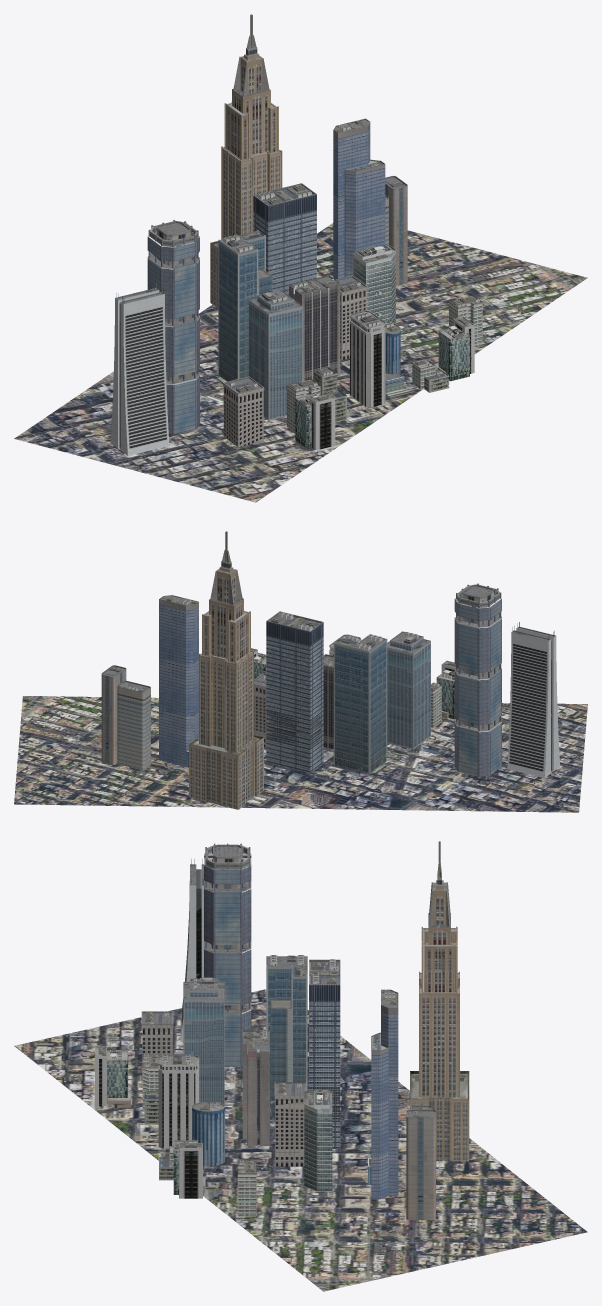
The model's file is city_buildings.glb.
3 views of the same model, one above another, from view 1: azimuth 30°, elevation 25°; view 2: azimuth 150°, elevation 25°; view 3: azimuth 270°, elevation 25° (orthographic). The views are drawn at different scales.
Visible parts, largest first — view 1: Object_4, Object_8; view 2: Object_4, Object_8; view 3: Object_4, Object_8.
Boxes of the visible parts, bbox=[...] form: Object_4: bbox=[110, 14, 482, 455]; Object_8: bbox=[14, 223, 587, 502]; Object_4: bbox=[101, 531, 560, 809]; Object_8: bbox=[14, 696, 587, 812]; Object_4: bbox=[95, 841, 469, 1219]; Object_8: bbox=[14, 989, 587, 1291].
Size of the model in its own units: 5.74 by 2.81 by 4.56.
Materials: 2 (2 with a texture image).
